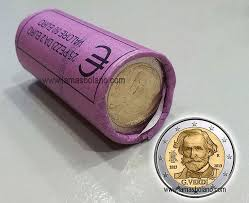eur002: (153, 118, 236, 199), (103, 58, 166, 135)
